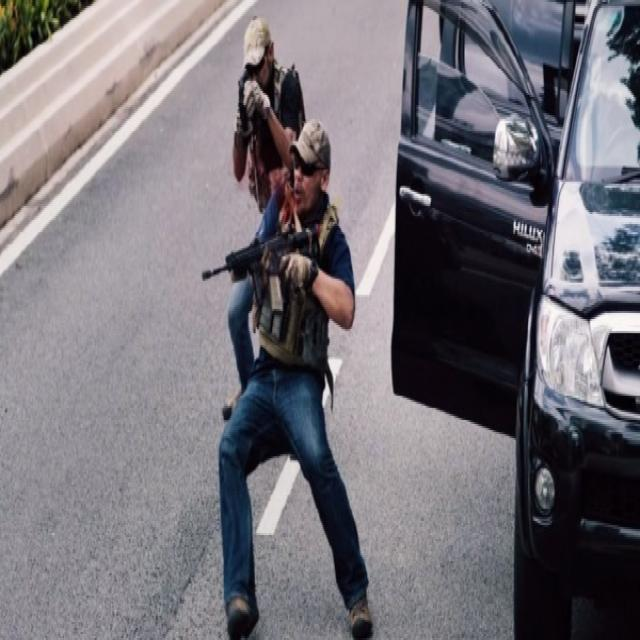rifle: (201, 215, 325, 318)
